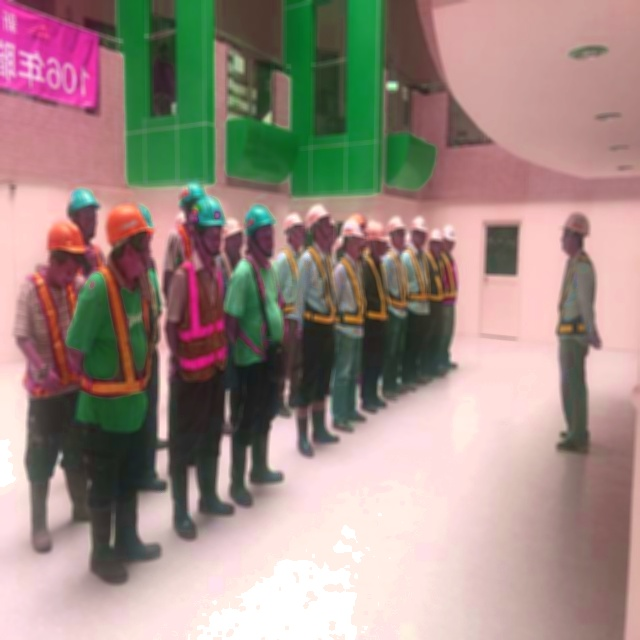Con_Casco: (245, 206, 275, 259), (561, 211, 590, 252), (282, 214, 303, 246)
Con_Chaleco: (79, 270, 155, 392), (169, 261, 228, 383), (557, 257, 598, 338), (299, 249, 335, 324), (336, 259, 364, 327), (365, 257, 390, 319), (390, 252, 407, 312)
